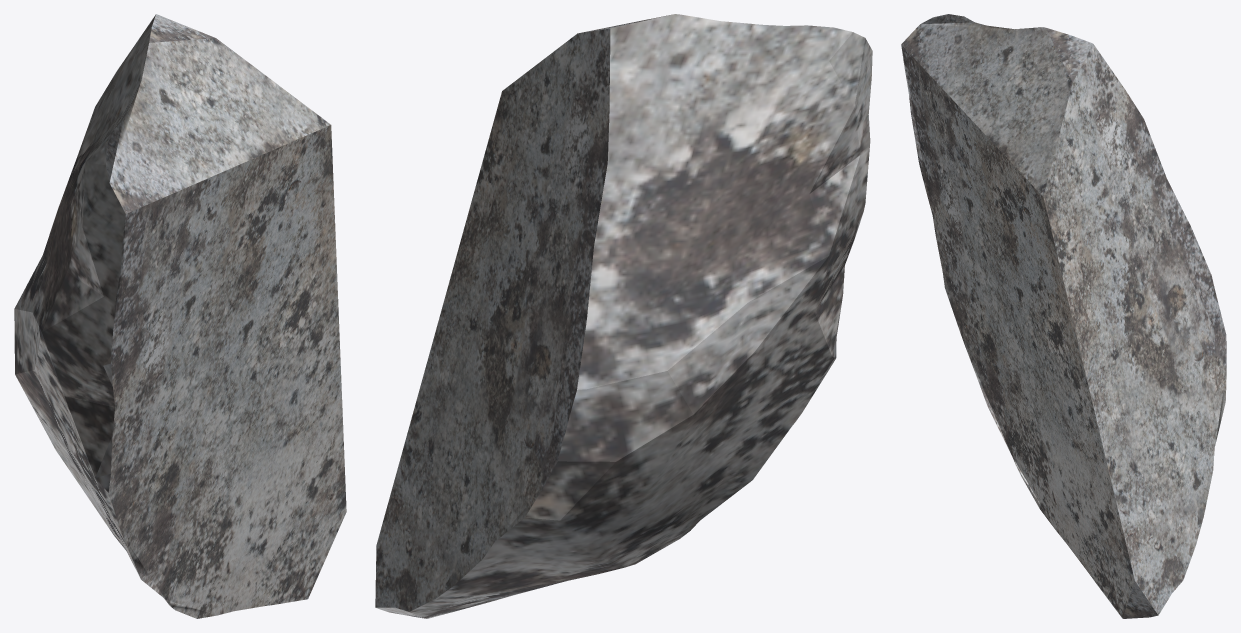
Rendered from Asteroid_Large_001_02_005.fbx.
3 renders of one model, left to right at view 1: azimuth 30°, elevation 25°; view 2: azimuth 150°, elevation 25°; view 3: azimuth 270°, elevation 25°, orthographic. The views are drawn at different scales.
Visible parts, largest first — view 1: Asteroid_Large_001_02_005; view 2: Asteroid_Large_001_02_005; view 3: Asteroid_Large_001_02_005.
Part boxes in pixels (bbox=[...]): Asteroid_Large_001_02_005: bbox=[14, 14, 346, 618]; Asteroid_Large_001_02_005: bbox=[375, 14, 872, 618]; Asteroid_Large_001_02_005: bbox=[901, 14, 1226, 618].
Bounding box in the file's own units: 15.2 × 24.09 × 13.93.
